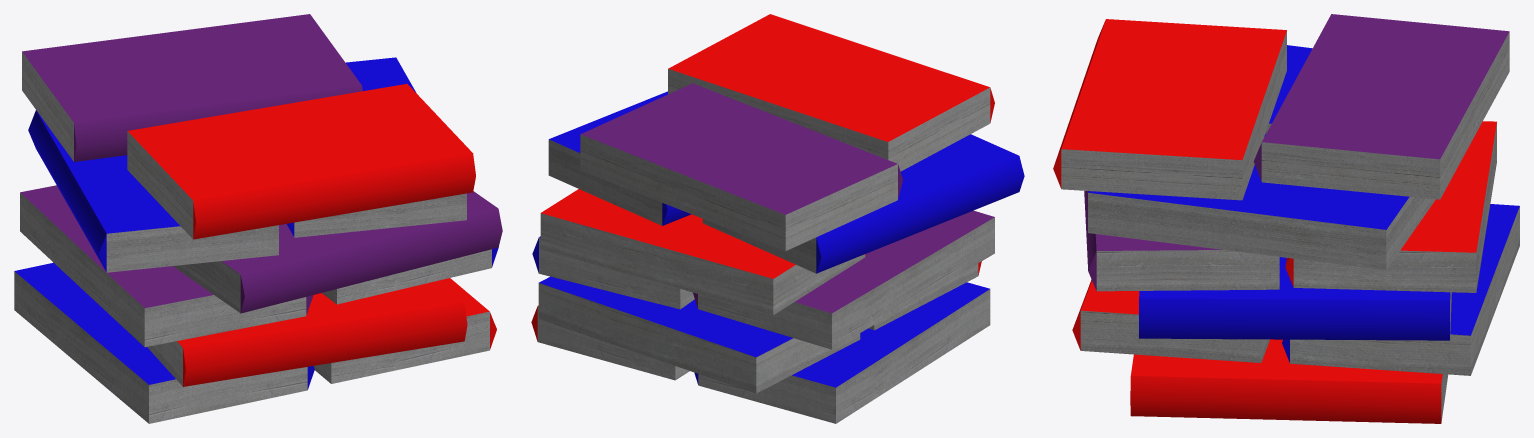
The model's file is Prop_BookStack_Mid.FBX.
3 renders of one model, left to right at view 1: azimuth 30°, elevation 25°; view 2: azimuth 150°, elevation 25°; view 3: azimuth 270°, elevation 25°, orthographic. The views are drawn at different scales.
Parts seen in each view (by area): view 1: Prop_BookStack_Mid; view 2: Prop_BookStack_Mid; view 3: Prop_BookStack_Mid.
Part boxes in pixels (x1=…): Prop_BookStack_Mid: x1=14, y1=14, x2=502, y2=423; Prop_BookStack_Mid: x1=531, y1=14, x2=1024, y2=423; Prop_BookStack_Mid: x1=1053, y1=14, x2=1519, y2=423.
Bounding box in the file's own units: 32.8 × 18.14 × 31.77.
